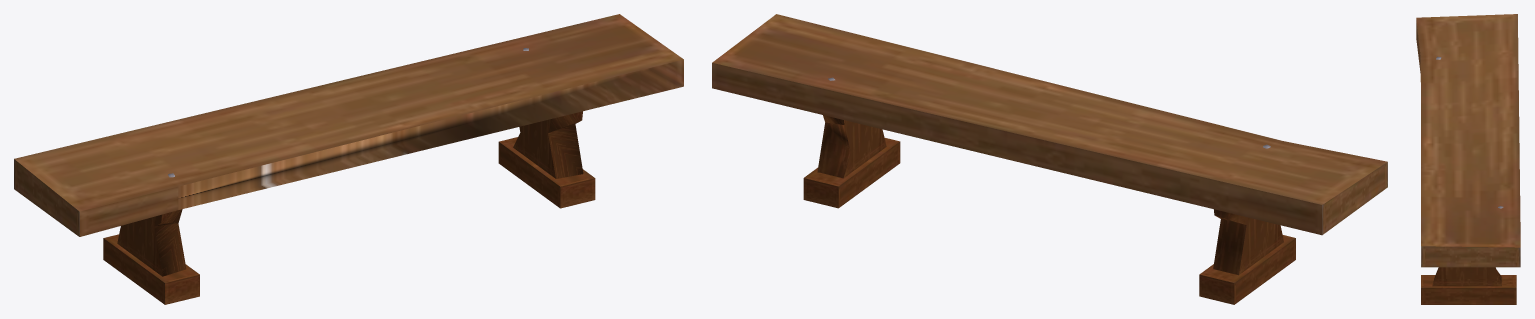
The model's file is Bench.gltf.
3 renders of one model, left to right at view 1: azimuth 30°, elevation 25°; view 2: azimuth 150°, elevation 25°; view 3: azimuth 270°, elevation 25°, orthographic. The views are drawn at different scales.
Visible parts, largest first — view 1: Bench; view 2: Bench; view 3: Bench.
Boxes of the visible parts, x1,y1,x2,y2 form: Bench: [14, 14, 683, 304]; Bench: [712, 14, 1387, 304]; Bench: [1416, 14, 1520, 304].
Size of the model in its own units: 2.78 by 0.5332 by 0.5342.
Materials: 2 (2 with a texture image).
